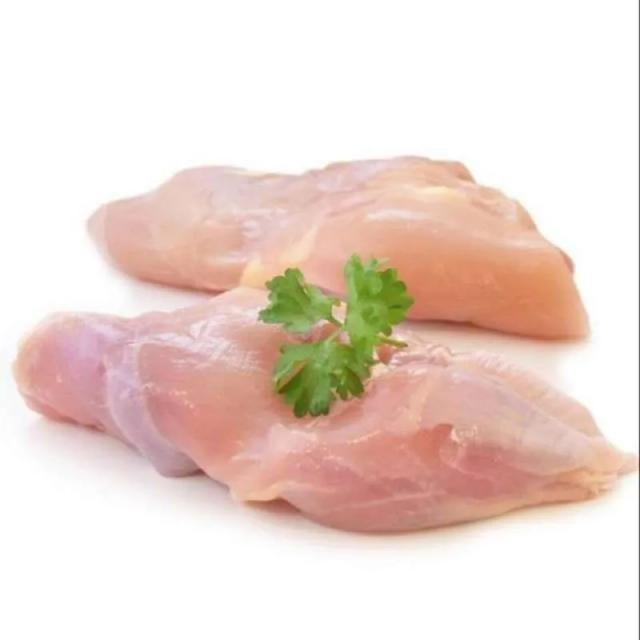Chicken: (21, 285, 634, 523), (92, 158, 591, 338)
